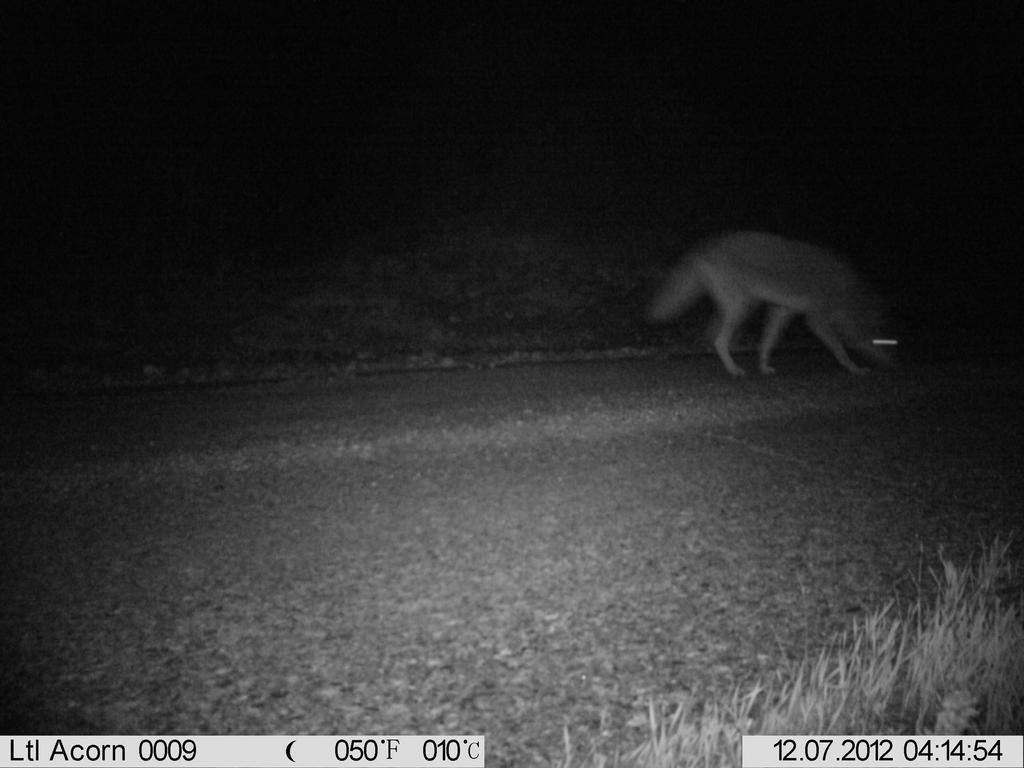coyote: (631, 225, 925, 395)
